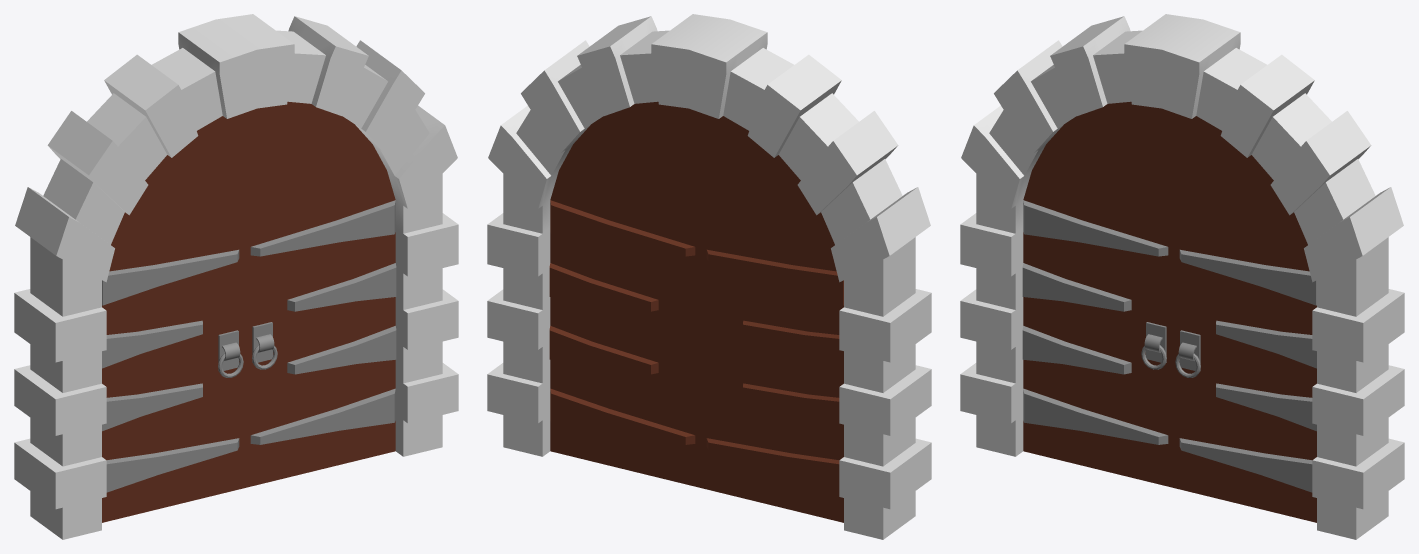
The model's file is dvereKeKonci.fbx.
3 views of the same model, side by side, from view 1: azimuth 30°, elevation 25°; view 2: azimuth 150°, elevation 25°; view 3: azimuth 330°, elevation 25° (orthographic).
Parts seen in each view (by area): view 1: Rám, Dveře, Dveře.001; view 2: Rám, Dveře, Dveře.001; view 3: Rám, Dveře.001, Dveře.
Boxes of the visible parts, x1,y1,x2,y2 form: Rám: (14,14,458,539); Dveře: (245,101,396,487); Dveře.001: (102,113,244,522); Rám: (487,14,931,539); Dveře: (549,101,700,487); Dveře.001: (701,113,843,522); Rám: (960,14,1404,539); Dveře.001: (1022,101,1173,487); Dveře: (1174,113,1316,522).
Size of the model in its own units: 775 by 822 by 138.
